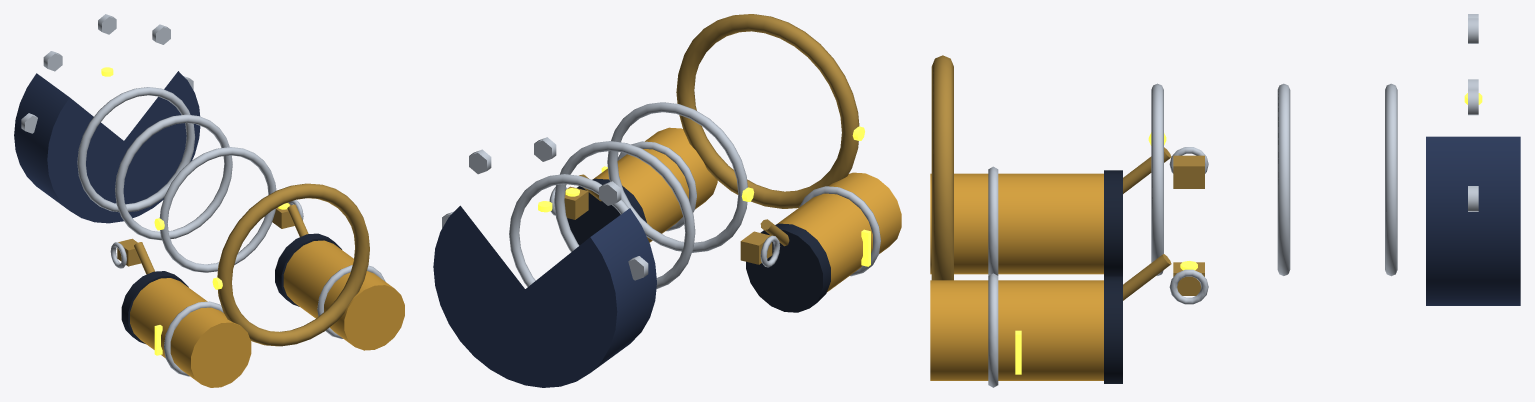
File: tower_nova_damage_s6.glb
3 views of the same model, side by side, from view 1: azimuth 30°, elevation 25°; view 2: azimuth 150°, elevation 25°; view 3: azimuth 270°, elevation 25° (orthographic). The views are drawn at different scales.
Parts seen in each view (by area): view 1: nova_brake_shroud, nova_napalm_can_r, nova_napalm_can_l, nova_pressure_ring, nova_tube_band1.02, nova_tube_band1.36, nova_tube_band0.62, nova_brake_shroud_bolts, nova_napalm_cap_l, nova_napalm_cap_r, nova_napalm_strap_r, nova_napalm_strap_l (+2 smaller); view 2: nova_brake_shroud, nova_pressure_ring, nova_napalm_can_r, nova_napalm_can_l, nova_napalm_cap_r, nova_tube_band0.62, nova_tube_band1.02, nova_tube_band1.36, nova_brake_shroud_bolts, nova_napalm_cap_l, nova_napalm_strap_r, nova_napalm_strap_l (+3 smaller); view 3: nova_napalm_can_l, nova_brake_shroud, nova_napalm_can_r, nova_pressure_ring, nova_tube_band1.02, nova_tube_band1.36, nova_tube_band0.62, nova_napalm_cap_l, nova_napalm_cap_r, nova_napalm_strap_l, nova_napalm_strap_r, nova_napalm_valve_r (+5 smaller).
Part boxes in pixels (<box>): nova_brake_shroud: <box>14,71,200,223</box>; nova_napalm_can_r: <box>130,278,251,387</box>; nova_napalm_can_l: <box>283,240,404,350</box>; nova_pressure_ring: <box>217,183,369,346</box>; nova_tube_band1.02: <box>115,114,232,240</box>; nova_tube_band1.36: <box>77,87,194,212</box>; nova_tube_band0.62: <box>159,147,276,272</box>; nova_brake_shroud_bolts: <box>21,14,193,133</box>; nova_napalm_cap_l: <box>275,233,341,306</box>; nova_napalm_cap_r: <box>121,271,188,343</box>; nova_napalm_strap_r: <box>164,301,223,376</box>; nova_napalm_strap_l: <box>317,265,385,338</box>; nova_brake_shroud: <box>433,205,656,387</box>; nova_pressure_ring: <box>676,14,859,208</box>; nova_napalm_can_r: <box>777,172,901,291</box>; nova_napalm_can_l: <box>593,127,717,242</box>; nova_napalm_cap_r: <box>746,223,830,312</box>; nova_tube_band0.62: <box>607,102,747,252</box>; nova_tube_band1.02: <box>554,141,695,289</box>; nova_tube_band1.36: <box>509,174,628,286</box>; nova_brake_shroud_bolts: <box>442,137,648,280</box>; nova_napalm_cap_l: <box>567,178,646,245</box>; nova_napalm_strap_r: <box>799,186,880,276</box>; nova_napalm_strap_l: <box>617,141,696,231</box>; nova_napalm_can_l: <box>930,280,1103,380</box>; nova_brake_shroud: <box>1426,136,1520,305</box>; nova_napalm_can_r: <box>930,173,1103,274</box>; nova_pressure_ring: <box>931,55,953,280</box>; nova_tube_band1.02: <box>1277,83,1290,275</box>; nova_tube_band1.36: <box>1385,83,1397,276</box>; nova_tube_band0.62: <box>1151,83,1163,275</box>; nova_napalm_cap_l: <box>1104,277,1122,383</box>; nova_napalm_cap_r: <box>1104,170,1122,276</box>; nova_napalm_strap_l: <box>988,273,998,387</box>; nova_napalm_strap_r: <box>988,166,998,275</box>; nova_napalm_valve_r: <box>1173,155,1204,188</box>.
Size of the model in its own units: 1.17 by 1.09 by 1.87.
